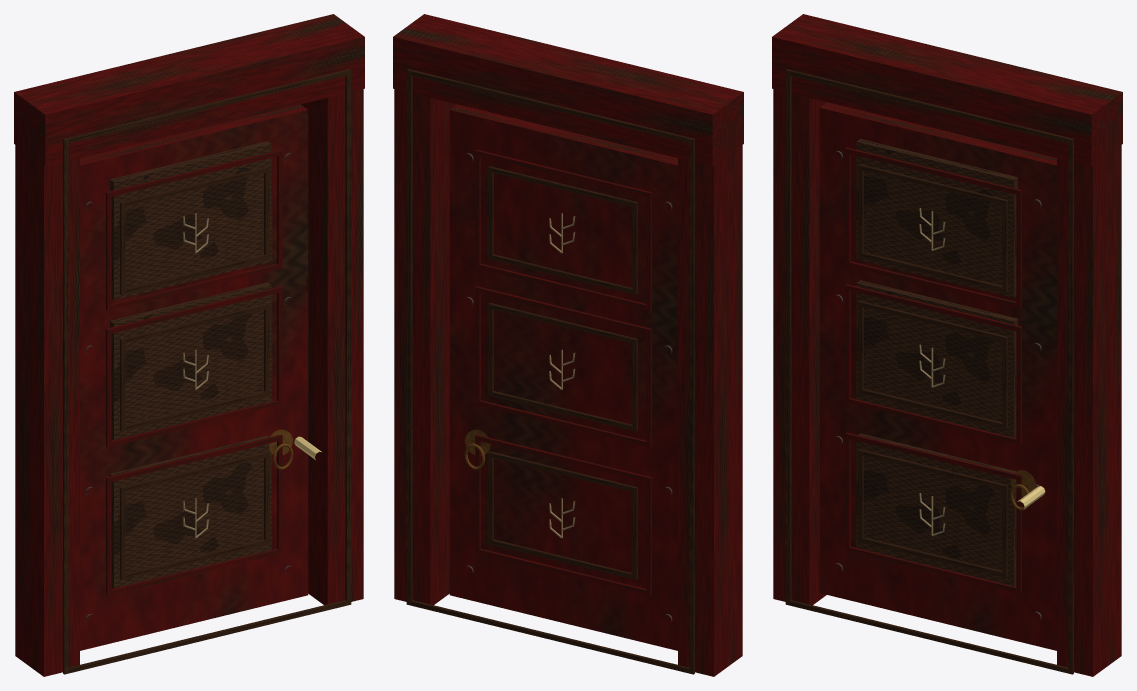
Rendered from door.glb.
3 renders of one model, left to right at view 1: azimuth 30°, elevation 25°; view 2: azimuth 150°, elevation 25°; view 3: azimuth 330°, elevation 25°, orthographic.
Visible parts, largest first — view 1: DoorLeaf, JambL, JambR, Lintel, Carve2, Carve1, Carve0, Art_BurntLacquer_DoorLeaf, Art_WarmWood, Art_WarmWood_DoorLeaf, Art_FadedThread_DoorLeaf, Art_OxidizedBrass_DoorLeaf; view 2: DoorLeaf, JambL, Lintel, JambR, Art_BurntLacquer_DoorLeaf, Art_WarmWood, Art_WarmWood_DoorLeaf, Art_FadedThread_DoorLeaf, Art_OxidizedBrass_DoorLeaf; view 3: DoorLeaf, JambR, Lintel, JambL, Carve2, Carve1, Carve0, Art_BurntLacquer_DoorLeaf, Art_WarmWood, Art_WarmWood_DoorLeaf, Art_FadedThread_DoorLeaf.
Boxes of the visible parts, x1,y1,x2,y2 form: DoorLeaf: (80, 104, 308, 650); JambL: (15, 114, 79, 676); JambR: (301, 89, 363, 605); Lintel: (14, 14, 364, 166); Carve2: (110, 141, 271, 299); Carve1: (110, 282, 271, 440); Carve0: (110, 435, 271, 594); Art_BurntLacquer_DoorLeaf: (106, 149, 282, 595); Art_WarmWood: (63, 69, 351, 674); Art_WarmWood_DoorLeaf: (120, 166, 269, 579); Art_FadedThread_DoorLeaf: (182, 213, 208, 538); Art_OxidizedBrass_DoorLeaf: (269, 429, 293, 469); DoorLeaf: (449, 104, 677, 650); JambL: (678, 114, 742, 676); Lintel: (393, 14, 743, 166); JambR: (394, 89, 456, 605); Art_BurntLacquer_DoorLeaf: (475, 149, 651, 595); Art_WarmWood: (406, 69, 694, 674); Art_WarmWood_DoorLeaf: (488, 166, 637, 579); Art_FadedThread_DoorLeaf: (549, 213, 575, 538); Art_OxidizedBrass_DoorLeaf: (464, 429, 490, 469); DoorLeaf: (819, 102, 1056, 650); JambR: (1057, 114, 1121, 676); Lintel: (772, 14, 1122, 166); JambL: (773, 89, 826, 605); Carve2: (856, 139, 1017, 297); Carve1: (856, 280, 1017, 437); Carve0: (856, 433, 1016, 592); Art_BurntLacquer_DoorLeaf: (845, 147, 1021, 593); Art_WarmWood: (785, 69, 1073, 674); Art_WarmWood_DoorLeaf: (858, 164, 1007, 577); Art_FadedThread_DoorLeaf: (919, 208, 945, 536).
Size of what is drawn, in the model's own units: 1.42 by 2.39 by 0.361.
Materials: 8 (5 with a texture image).
